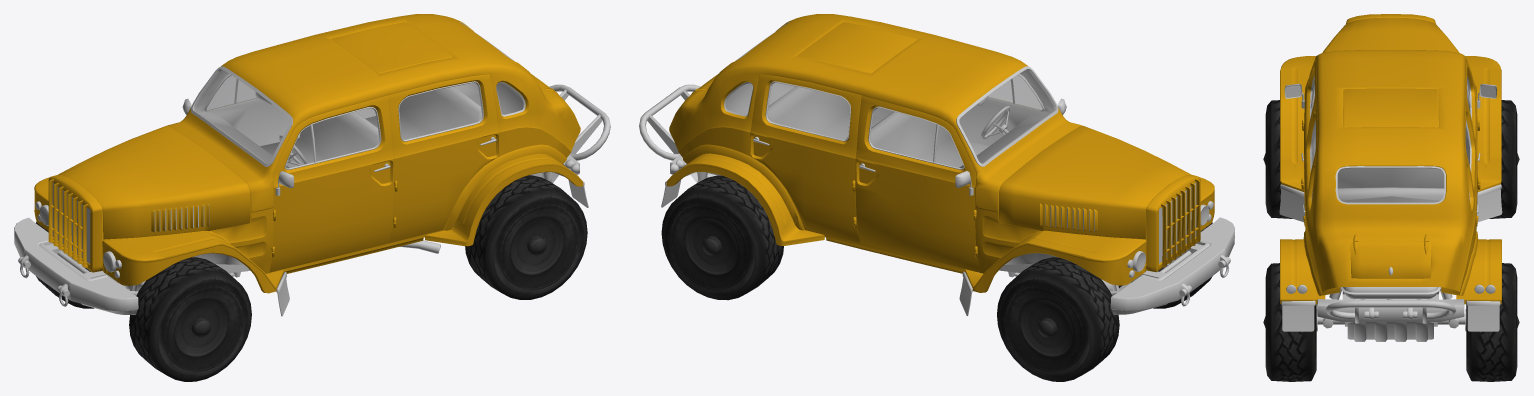
File: SUGNCST.fbx
3 views of the same model, side by side, from view 1: azimuth 30°, elevation 25°; view 2: azimuth 150°, elevation 25°; view 3: azimuth 270°, elevation 25° (orthographic).
Parts seen in each view (by area): view 1: bodyshell, bodyshell_glass, wheel, wheel001, interior, fenders_front, bumper_front, fenders_rear, bodyshell_glass_trim, bottom, bumper_rear; view 2: bodyshell, bodyshell_glass, wheel003, wheel002, interior, fenders_front001, bumper_front, fenders_rear001, bodyshell_glass_trim, bottom, bumper_rear; view 3: bodyshell, bodyshell_glass, interior, wheel002, wheel001, bumper_rear, fenders_front001, fenders_front, bottom, wheel003, fenders_rear001, fenders_rear (+8 smaller).
Boxes of the visible parts, x1,y1,x2,y2 form: bodyshell: [48, 14, 580, 273]; bodyshell_glass: [193, 33, 523, 168]; wheel: [129, 257, 251, 381]; wheel001: [465, 175, 587, 299]; interior: [195, 70, 523, 168]; fenders_front: [102, 231, 284, 293]; bumper_front: [14, 217, 138, 314]; fenders_rear: [425, 153, 583, 246]; bodyshell_glass_trim: [191, 22, 525, 169]; bottom: [46, 172, 558, 291]; bumper_rear: [549, 84, 610, 176]; bodyshell: [669, 14, 1200, 273]; bodyshell_glass: [726, 32, 1055, 167]; wheel003: [997, 257, 1119, 381]; wheel002: [661, 175, 783, 300]; interior: [726, 70, 1054, 167]; fenders_front001: [965, 230, 1146, 292]; bumper_front: [1110, 217, 1234, 314]; fenders_rear001: [666, 153, 824, 245]; bodyshell_glass_trim: [724, 22, 1058, 169]; bottom: [690, 172, 1203, 290]; bumper_rear: [639, 84, 700, 176]; bodyshell: [1301, 14, 1480, 295]; bodyshell_glass: [1311, 80, 1470, 202]; interior: [1312, 83, 1469, 202]; wheel002: [1466, 263, 1519, 381]; wheel001: [1263, 263, 1316, 381]; bumper_rear: [1317, 299, 1464, 323]; fenders_front001: [1465, 56, 1501, 191]; fenders_front: [1280, 56, 1315, 191]; bottom: [1340, 287, 1441, 341]; wheel003: [1489, 100, 1519, 218]; fenders_rear001: [1456, 239, 1501, 304]; fenders_rear: [1280, 239, 1325, 304].
Size of the model in its own units: 210 by 84.02 by 85.32.
